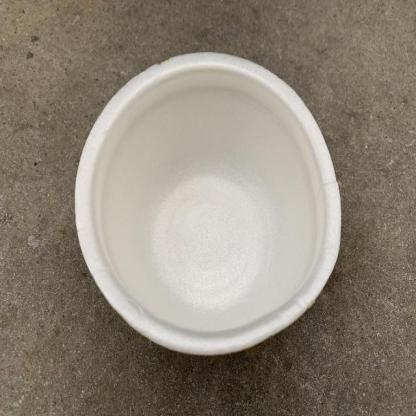Glass Cup: (74, 50, 342, 356), (75, 52, 341, 355)
